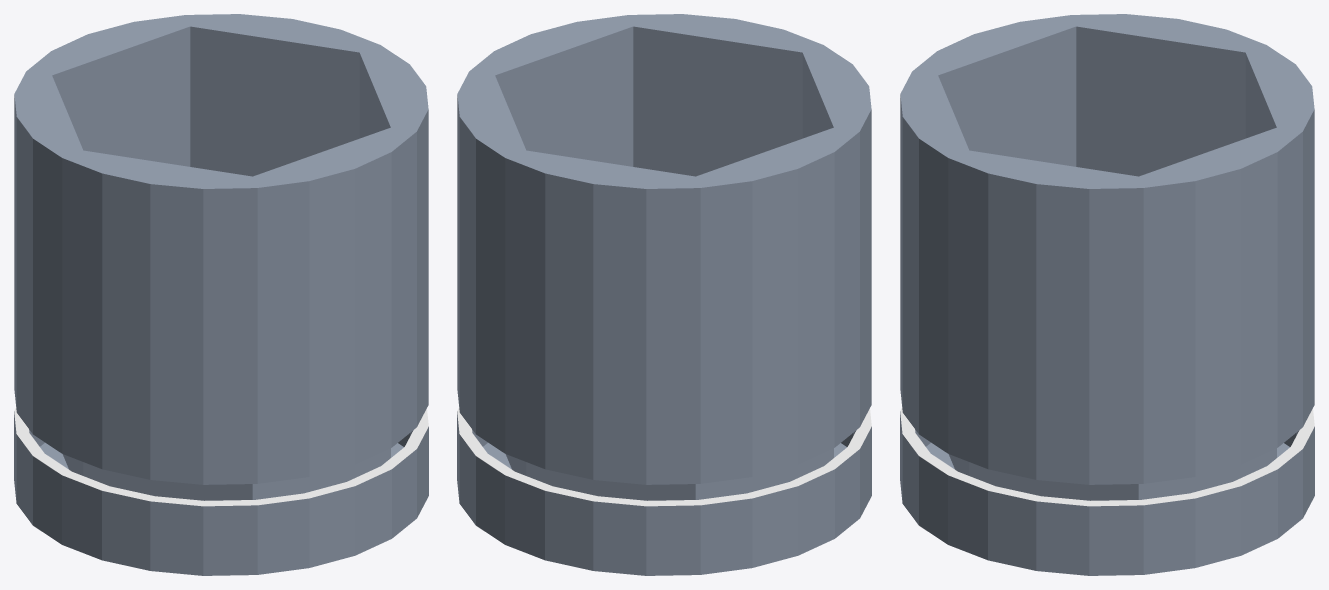
File: outil 07.FBX
The picture shows the model from 3 angles, left to right: view 1: azimuth 30°, elevation 25°; view 2: azimuth 150°, elevation 25°; view 3: azimuth 270°, elevation 25°; orthographic projection.
Parts seen in each view (by area): view 1: Mesh04; view 2: Mesh04; view 3: Mesh04.
Boxes of the visible parts, x1,y1,x2,y2 form: Mesh04: (14,14,428,575); Mesh04: (457,14,871,575); Mesh04: (900,14,1314,575).
Bounding box in the file's own units: 0.3707 × 0.3815 × 0.3707.
